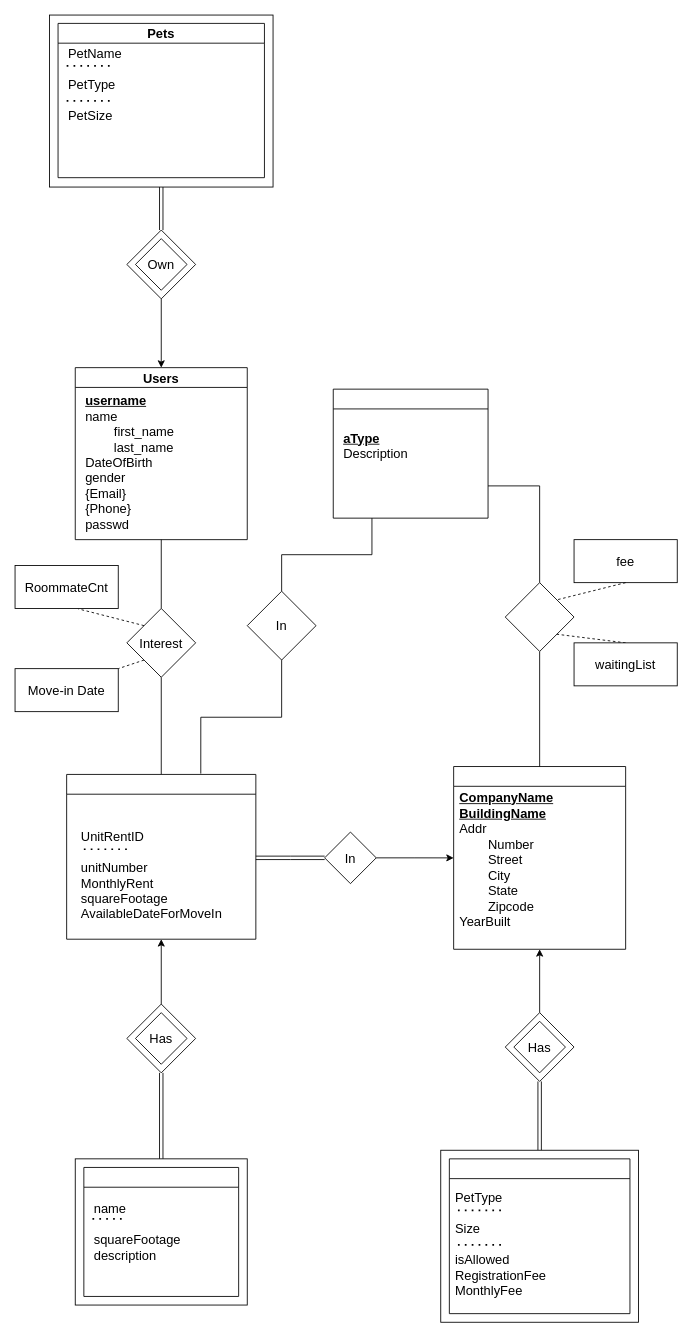
The diagram is 692 pixels wide and 1337 high, and some of its shapes have lost their labels. The box of each missing label's shape, as (x1, y1, x2, y2) in pixels:
Amenities: (332, 388, 488, 518)
ApartmentBuilding: (453, 766, 626, 949)
ApartmentUnit: (66, 774, 256, 939)
PetPolicy: (448, 1158, 630, 1314)
Provides: (504, 582, 574, 651)
Rooms: (83, 1167, 239, 1296)
